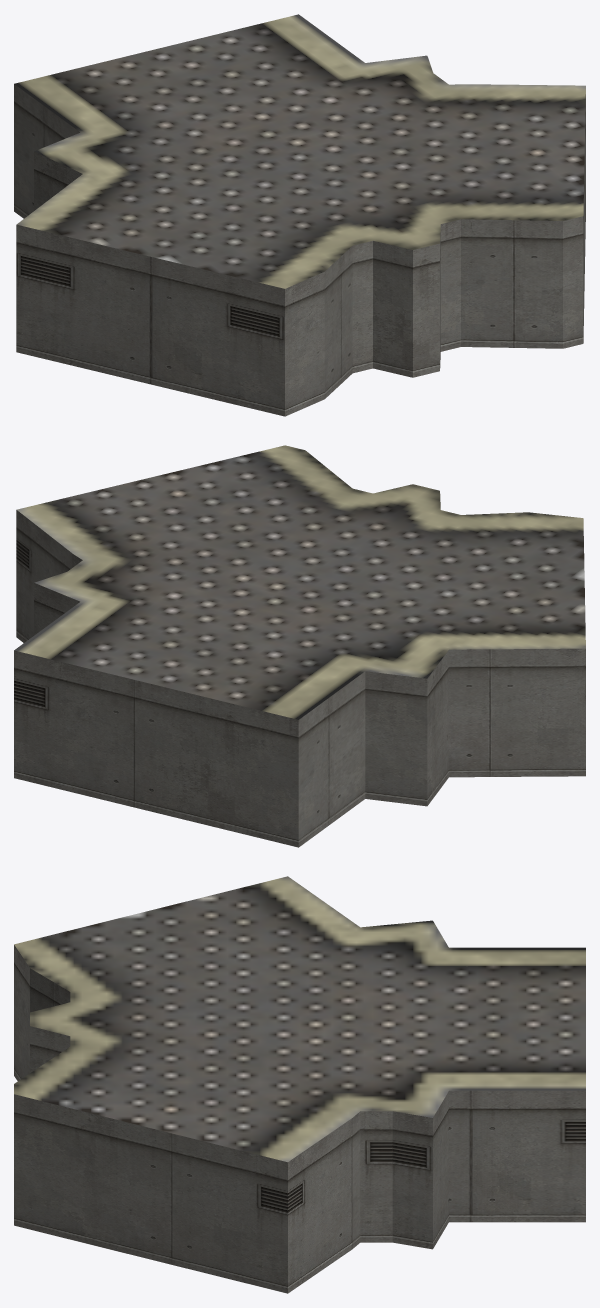
File: building_medium_a_21.glb
The picture shows the model from 3 angles, top to bottom: view 1: azimuth 30°, elevation 25°; view 2: azimuth 150°, elevation 25°; view 3: azimuth 270°, elevation 25°; orthographic projection. The views are drawn at different scales.
Visible parts, largest first — view 1: buildings/saxarba/building_medium/building_medium_a_21; view 2: buildings/saxarba/building_medium/building_medium_a_21; view 3: buildings/saxarba/building_medium/building_medium_a_21.
Part boxes in pixels (x1,y1,x2,y2): buildings/saxarba/building_medium/building_medium_a_21: (14,14,585,416); buildings/saxarba/building_medium/building_medium_a_21: (14,445,585,847); buildings/saxarba/building_medium/building_medium_a_21: (14,876,585,1293).
Bounding box in the file's own units: 84 × 18 × 71.
